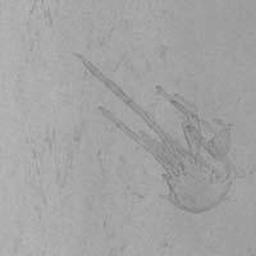Water spot: (74, 51, 247, 214)
